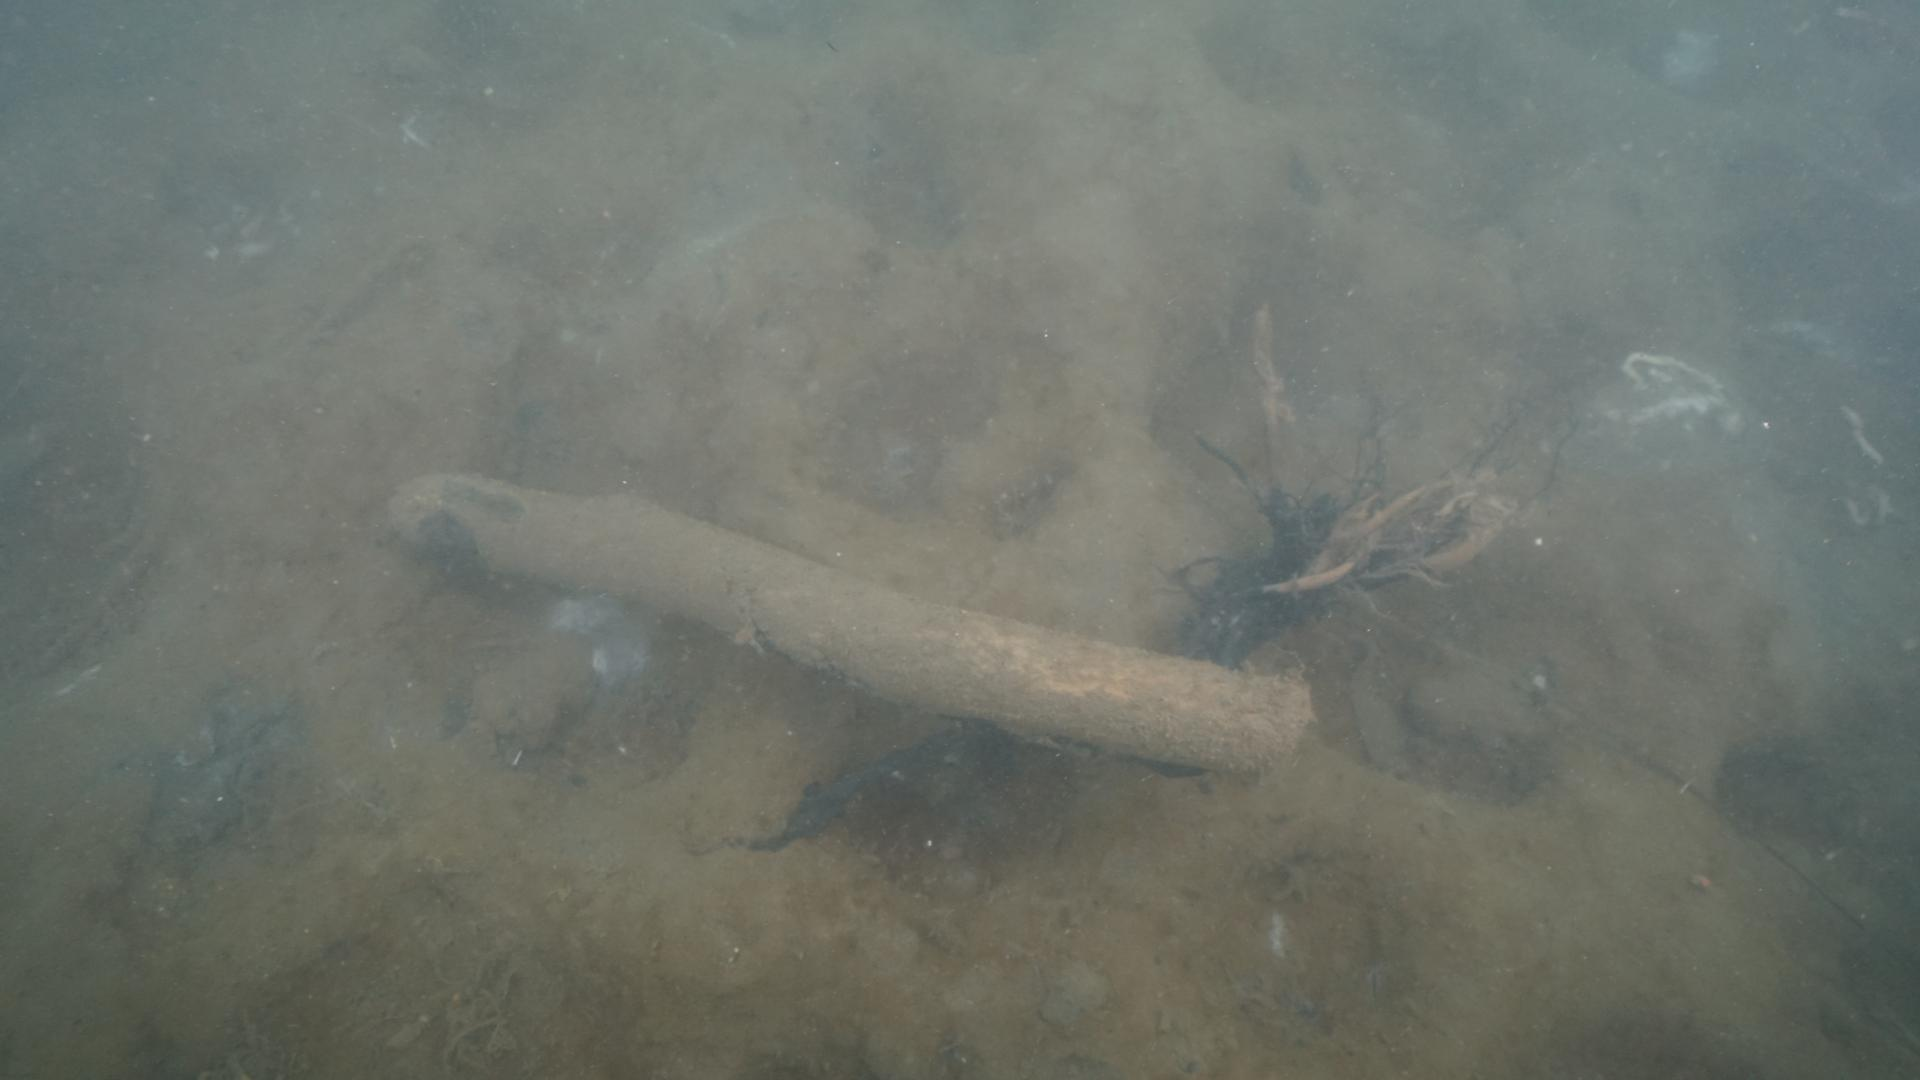wood: (384, 469, 1313, 779)
